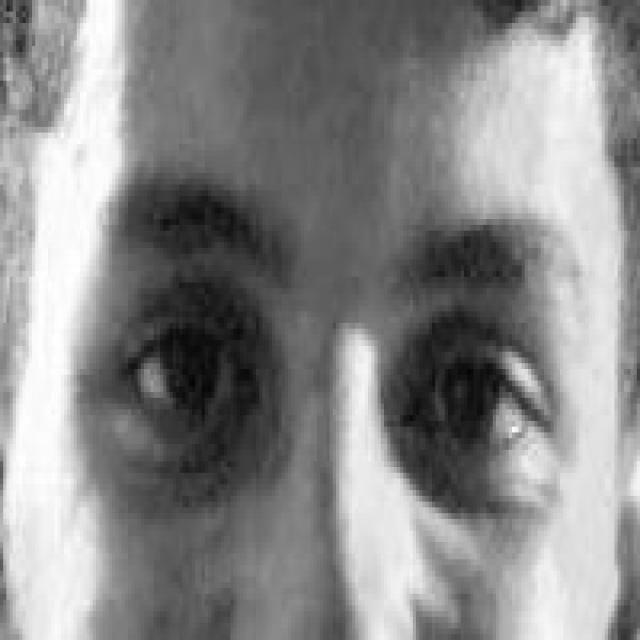real: (68, 206, 587, 537)
